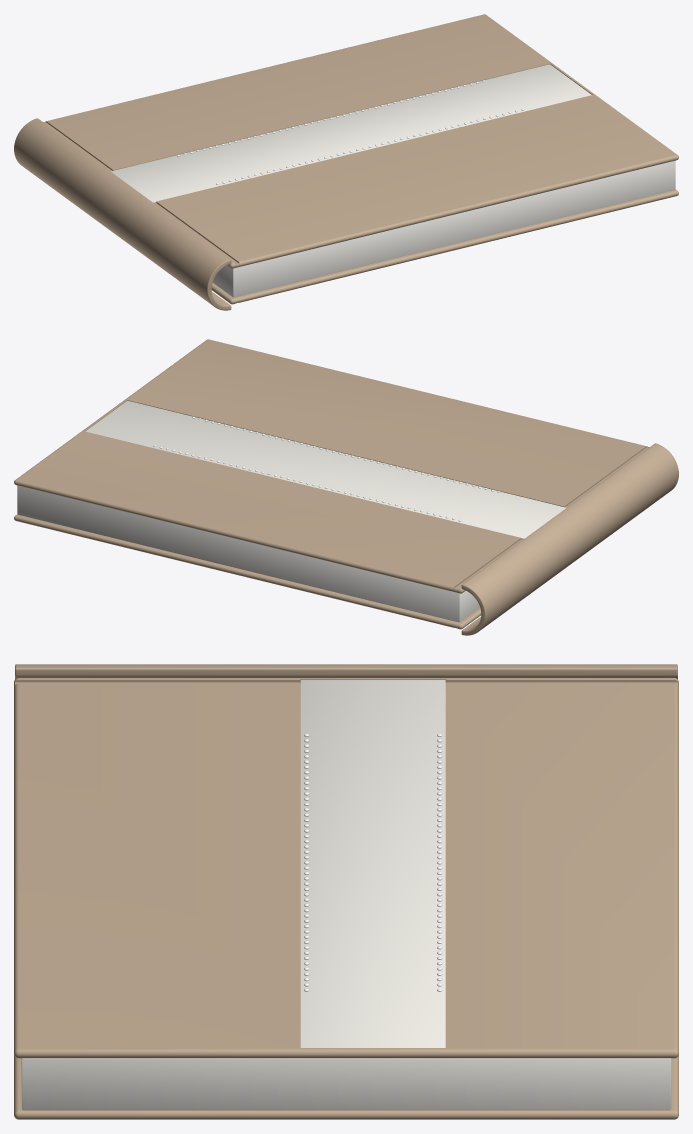
File: fascia-ornament--landscape.glb
3 views of the same model, one above another, from view 1: azimuth 30°, elevation 25°; view 2: azimuth 150°, elevation 25°; view 3: azimuth 270°, elevation 25° (orthographic). The views are drawn at different scales.
Parts seen in each view (by area): view 1: CoverFront, Band, Pages, Spine, CoverBack; view 2: CoverFront, Band, Pages, Spine, CoverBack; view 3: CoverFront, Band, Pages, Spine, CoverBack, Crystal, Crystal.001.
Boxes of the visible parts, x1,y1,x2,y2 form: CoverFront: (43, 14, 678, 268); Band: (111, 64, 591, 203); Pages: (213, 160, 675, 297); Spine: (14, 118, 231, 310); CoverBack: (211, 189, 678, 304); CoverFront: (14, 339, 649, 593); Band: (85, 400, 566, 539); Pages: (17, 485, 479, 622); Spine: (461, 443, 678, 635); CoverBack: (14, 514, 481, 629); CoverFront: (14, 678, 678, 1058); Band: (300, 680, 445, 1047); Pages: (21, 1058, 671, 1110); Spine: (15, 664, 677, 679); CoverBack: (14, 1055, 678, 1119); Crystal: (437, 733, 442, 991); Crystal.001: (304, 733, 309, 991).
Size of the model in its own units: 0.4208 by 0.043 by 0.3.
